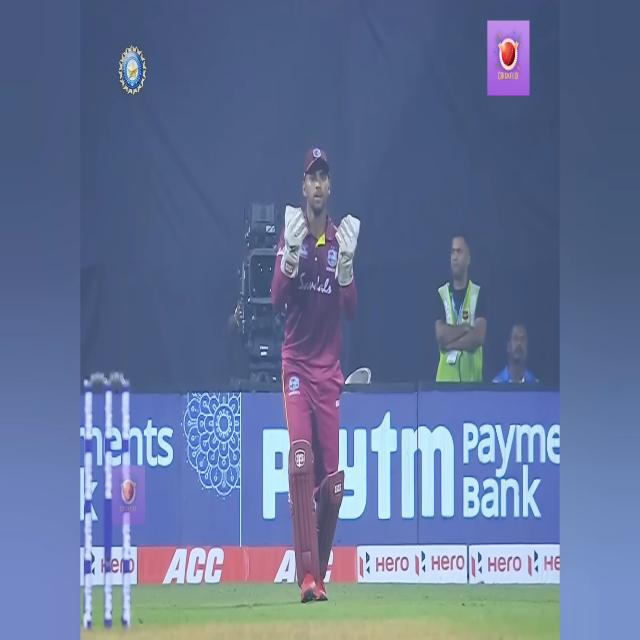partially_visible: (263, 414, 458, 522)
